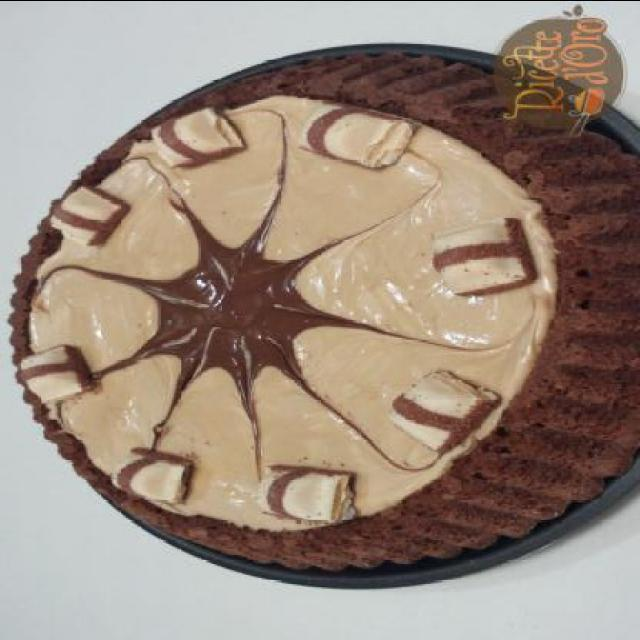Chocolate bar packaged: (383, 364, 499, 454), (426, 210, 530, 298), (296, 102, 418, 166), (255, 459, 354, 527), (146, 98, 240, 166), (41, 182, 127, 244), (110, 444, 187, 506), (15, 340, 90, 403)
